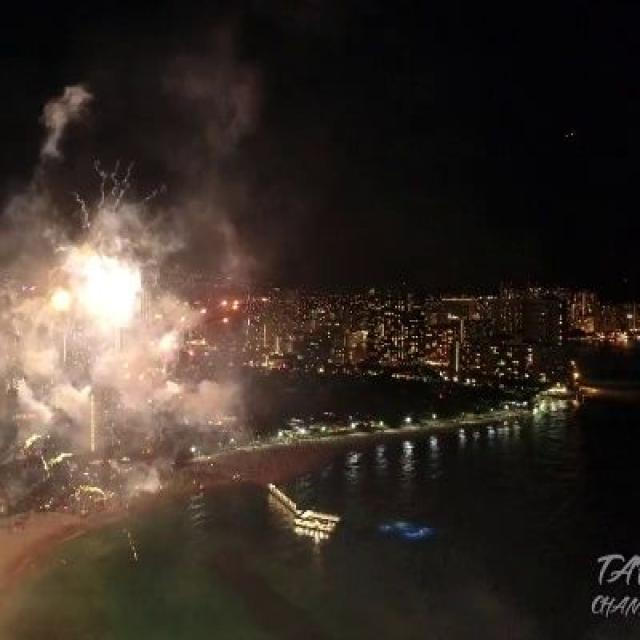Smoke: (1, 199, 244, 510)
